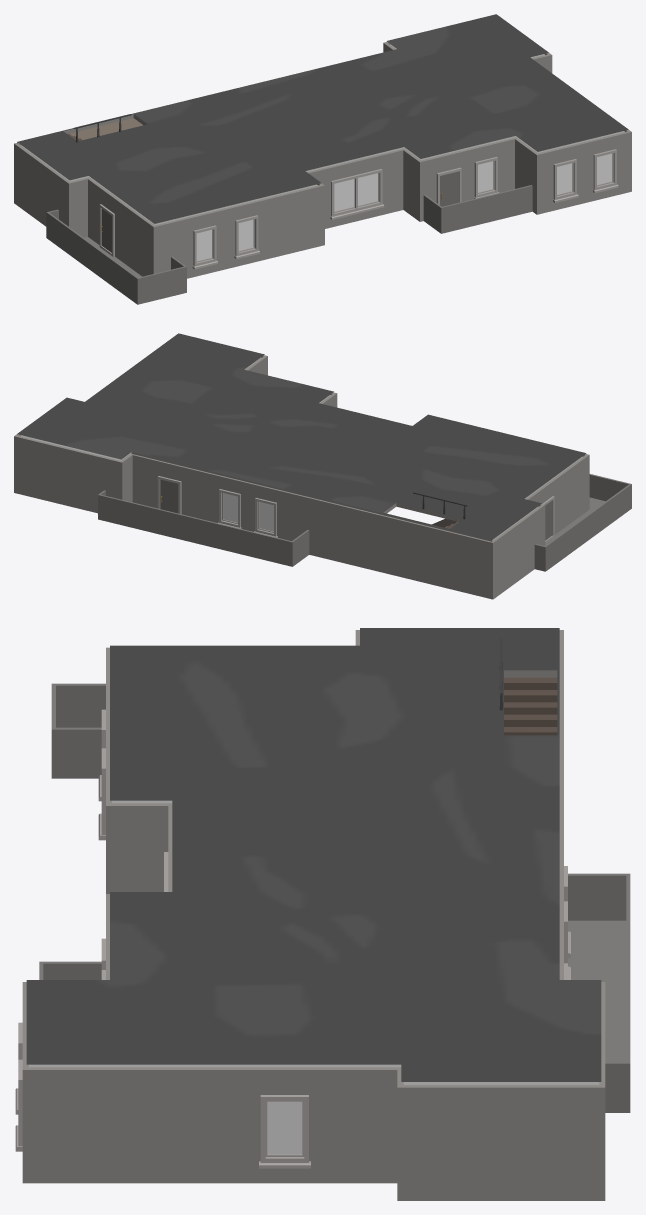
The model's file is SM_Bldg_City_Commercial_08_Mid.fbx.
The picture shows the model from 3 angles, top to bottom: view 1: azimuth 30°, elevation 25°; view 2: azimuth 150°, elevation 25°; view 3: azimuth 270°, elevation 25°; orthographic projection. The views are drawn at different scales.
Visible parts, largest first — view 1: SM_Bldg_City_Commercial_08_Mid, SM_Bldg_City_Commercial_08_Mid_Glass; view 2: SM_Bldg_City_Commercial_08_Mid, SM_Bldg_City_Commercial_08_Mid_Glass; view 3: SM_Bldg_City_Commercial_08_Mid, SM_Bldg_City_Commercial_08_Mid_Glass.
Part boxes in pixels (left/top/right/bottom): SM_Bldg_City_Commercial_08_Mid: left=14, top=14, right=631, bottom=304; SM_Bldg_City_Commercial_08_Mid_Glass: left=196, top=153, right=612, bottom=260; SM_Bldg_City_Commercial_08_Mid: left=14, top=333, right=631, bottom=599; SM_Bldg_City_Commercial_08_Mid_Glass: left=223, top=493, right=273, bottom=531; SM_Bldg_City_Commercial_08_Mid: left=15, top=628, right=630, bottom=1200; SM_Bldg_City_Commercial_08_Mid_Glass: left=267, top=1101, right=302, bottom=1154.
Size of the model in its own units: 2660 by 385 by 1477.
